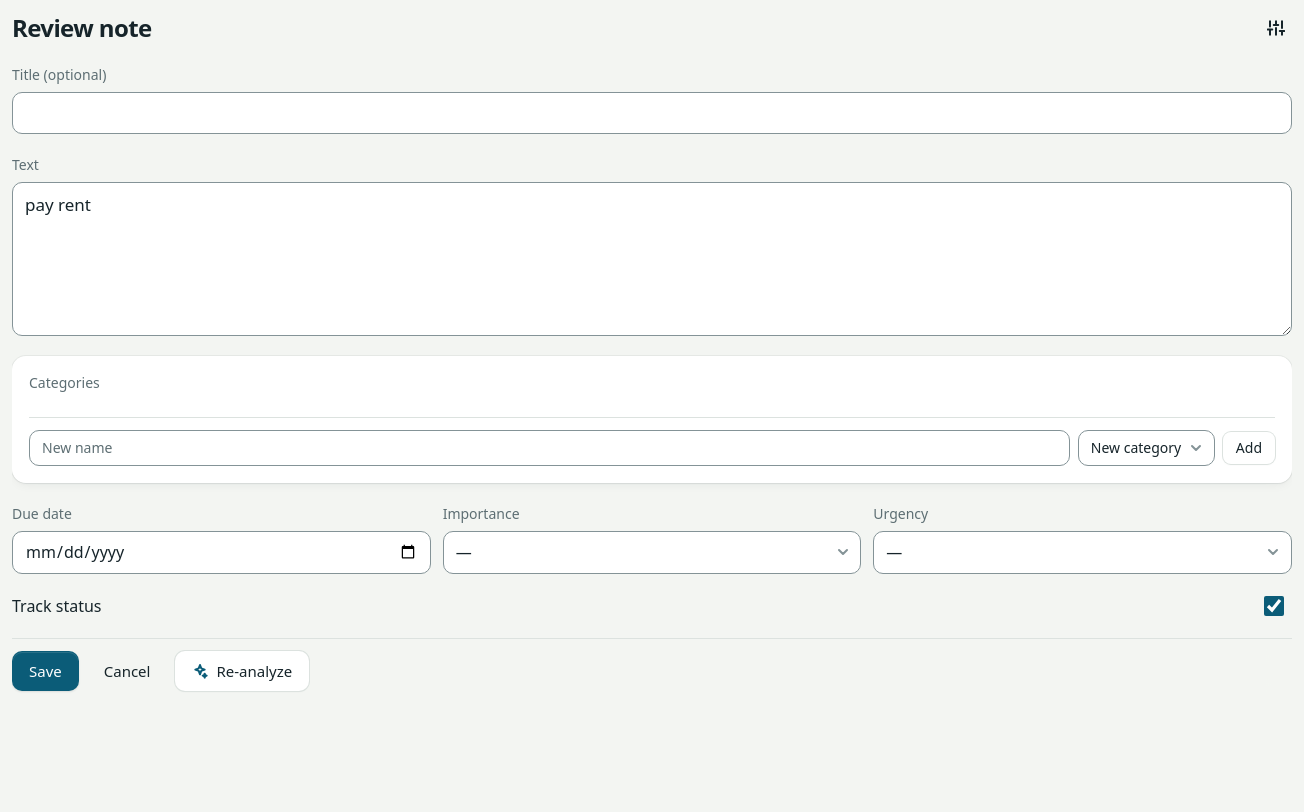
it: NoteEditor title › re-analyze does not overwrite a title typed while it runs
The image size is (1304, 812).
Click the button "Re-analyze" at [242, 671], box [175,651,309,691]
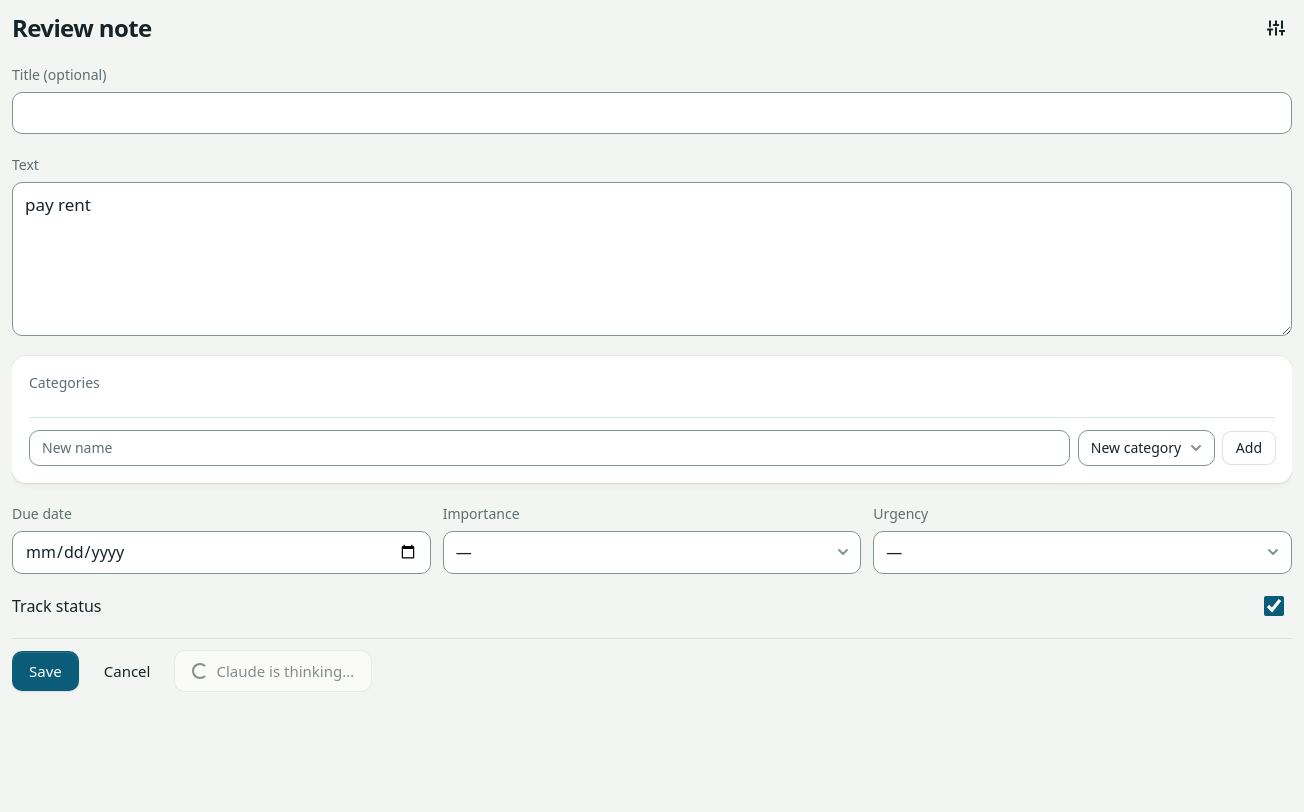
Type "Typed meanwhile" into the field labelled "Title (optional)" at [652, 113], box [12,92,1292,134]
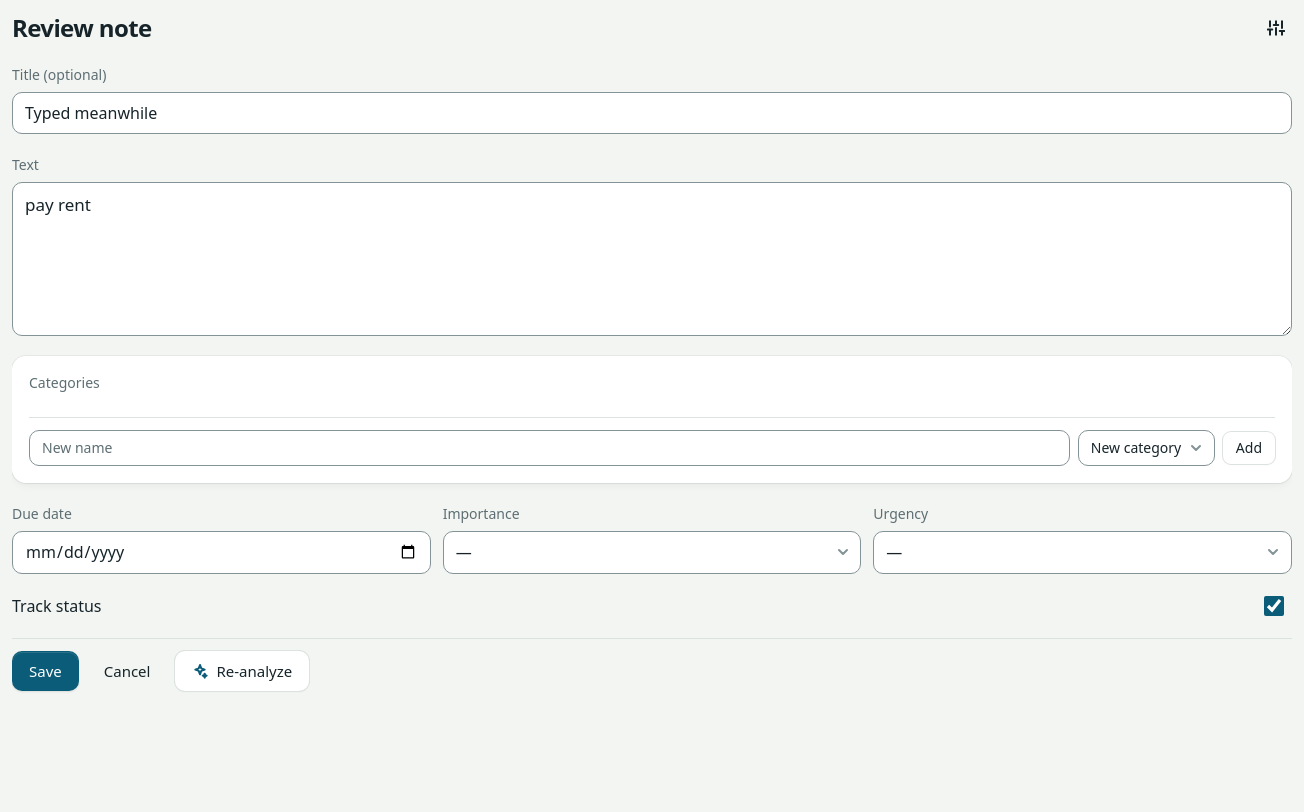
Expected: the button "Re-analyze" is enabled, [175,651,309,691]
